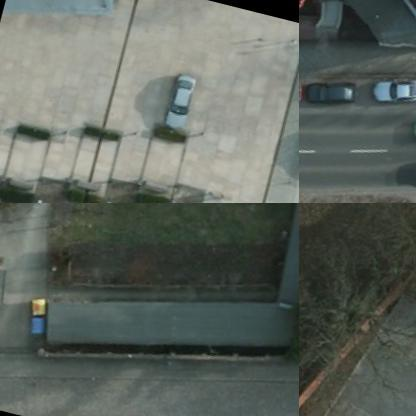car: (164, 77, 202, 136), (306, 81, 361, 113), (371, 77, 415, 115)
